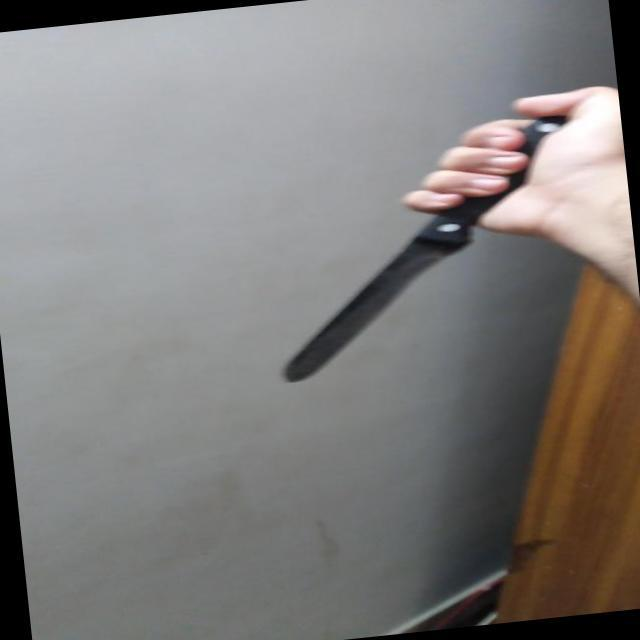Knife: (258, 104, 609, 396)
